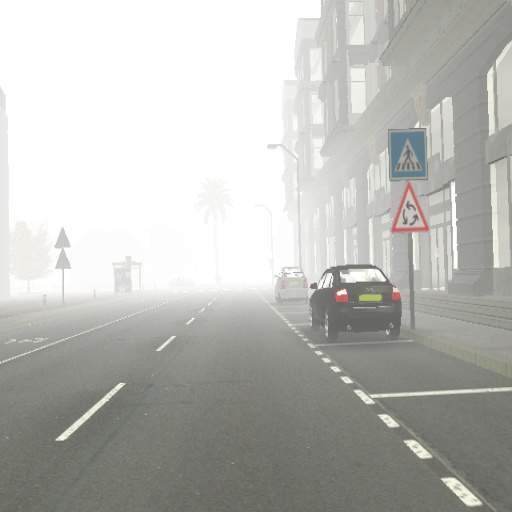Crossroad: (384, 178, 433, 244)
Pedestrian crossing: (380, 121, 435, 182)
